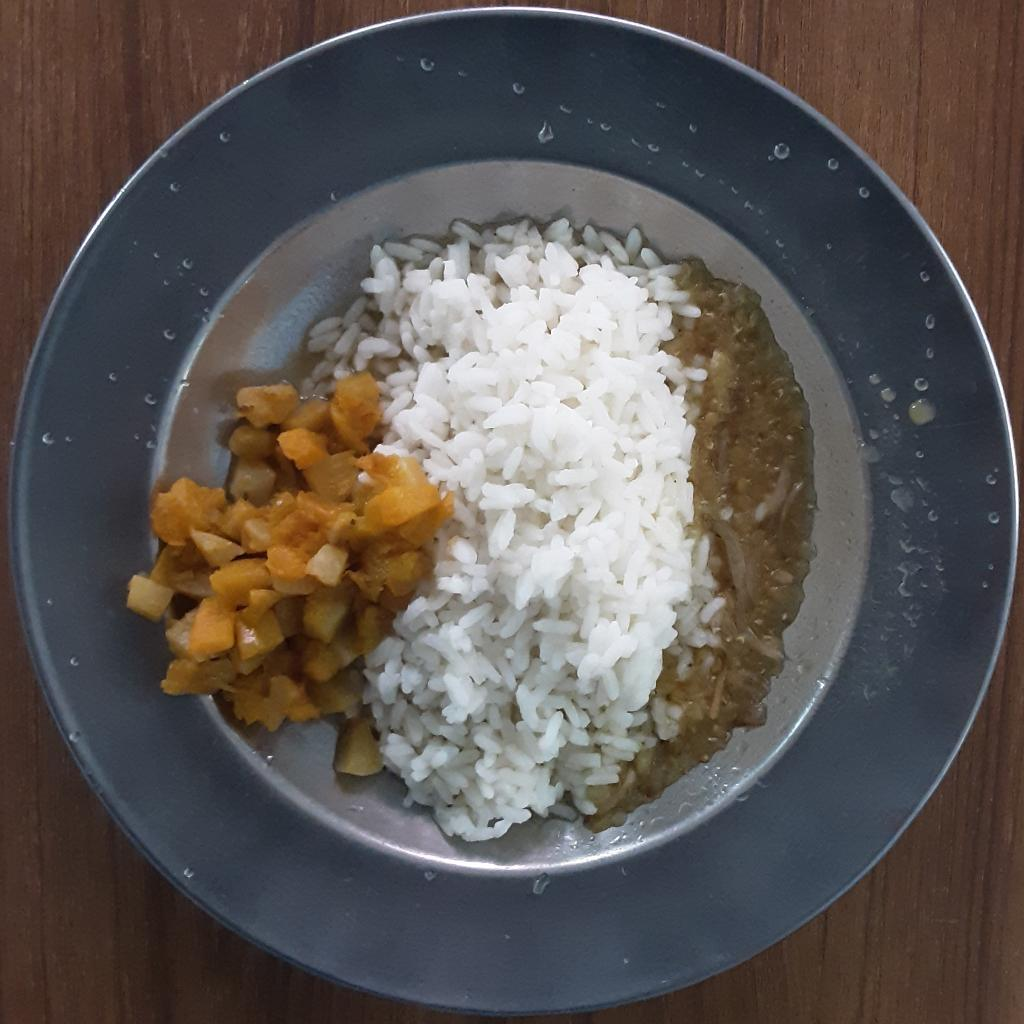daal: (595, 238, 816, 839)
kumra-vaji: (124, 366, 448, 772)
rice: (297, 220, 728, 840)
